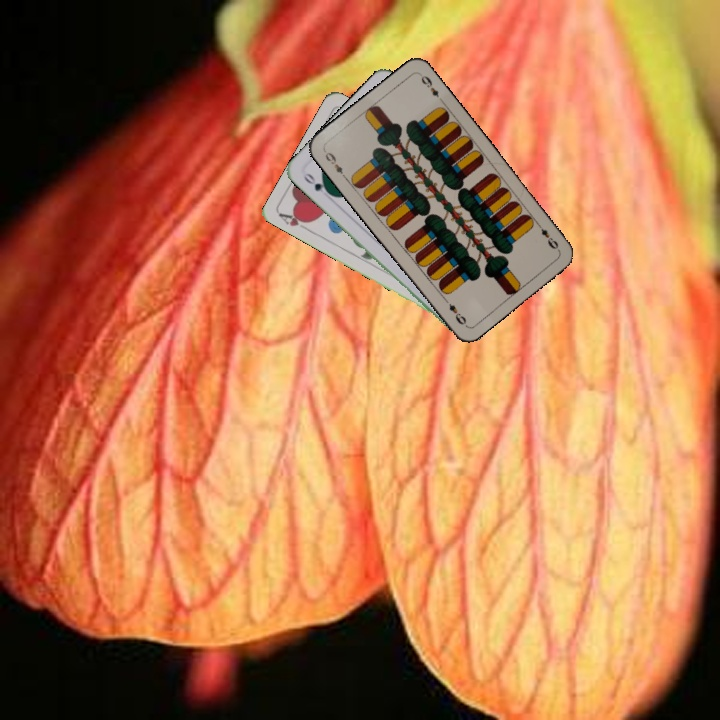E9: (320, 146, 349, 181), (533, 218, 562, 253)
GO: (300, 168, 334, 198)
HA: (275, 209, 313, 235)
